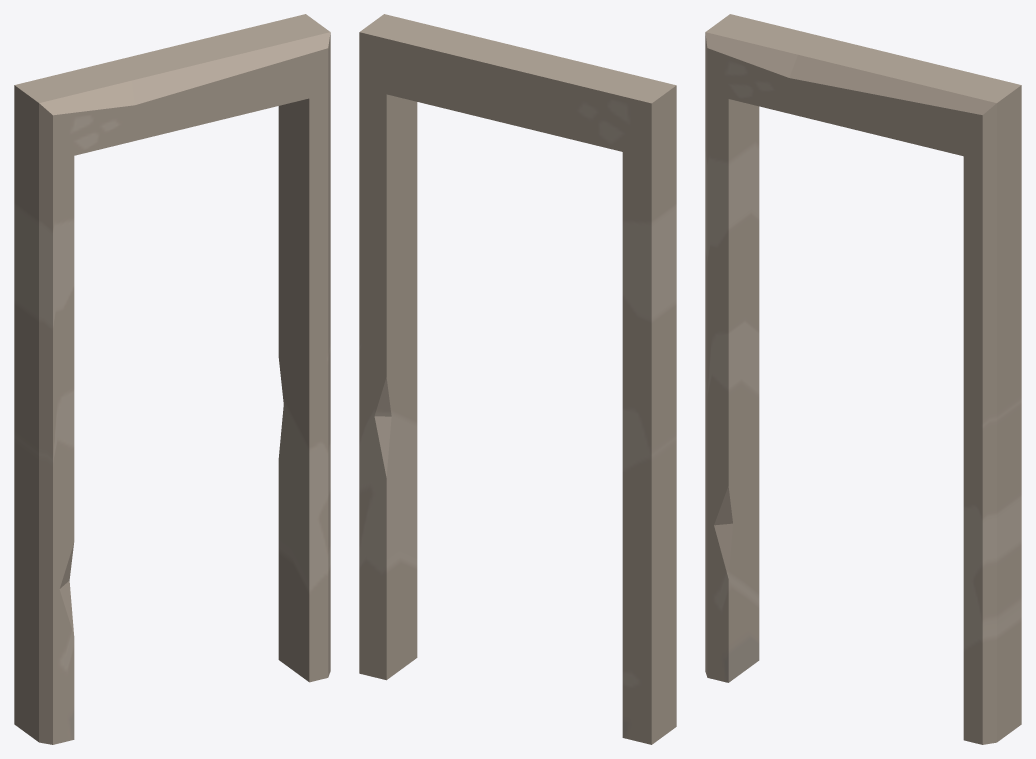
Rendered from SM_Bld_Shop_Door_05.fbx.
3 views of the same model, side by side, from view 1: azimuth 30°, elevation 25°; view 2: azimuth 150°, elevation 25°; view 3: azimuth 330°, elevation 25° (orthographic).
Parts seen in each view (by area): view 1: SM_Bld_Shop_Door_05; view 2: SM_Bld_Shop_Door_05; view 3: SM_Bld_Shop_Door_05.
Part boxes in pixels (bbox=[...]): SM_Bld_Shop_Door_05: bbox=[14, 14, 330, 744]; SM_Bld_Shop_Door_05: bbox=[359, 14, 676, 744]; SM_Bld_Shop_Door_05: bbox=[705, 14, 1021, 744].
Size of the model in its own units: 127 by 266 by 23.14.
